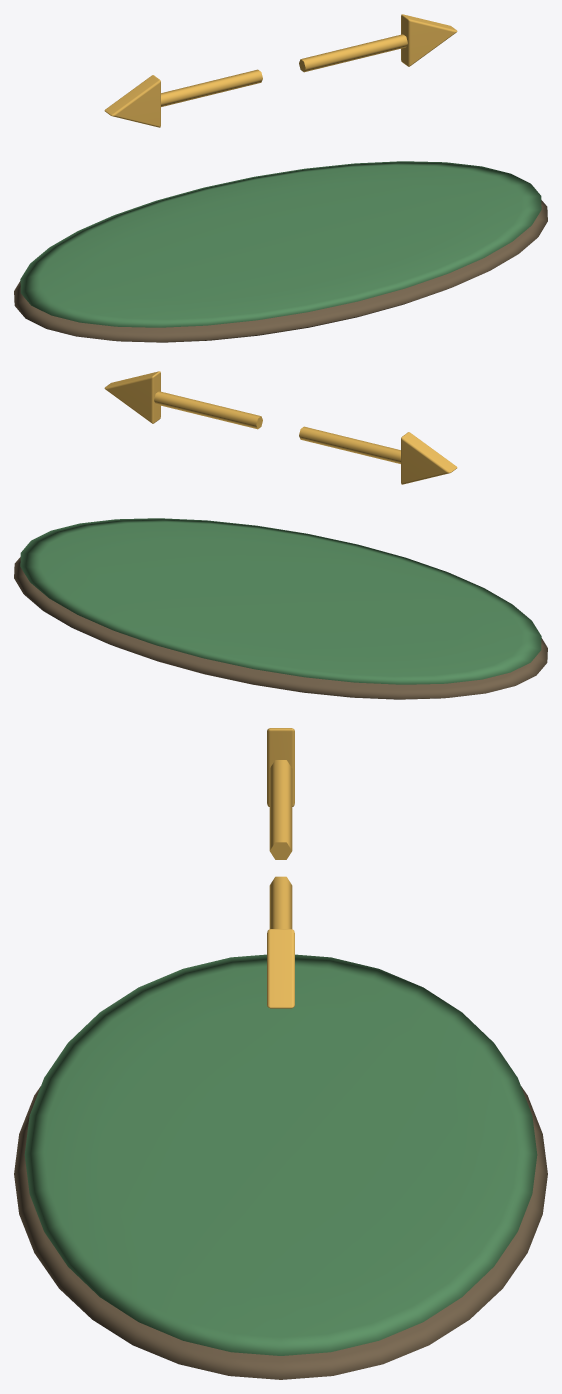
File: left-right.glb
3 views of the same model, one above another, from view 1: azimuth 30°, elevation 25°; view 2: azimuth 150°, elevation 25°; view 3: azimuth 270°, elevation 25° (orthographic). The views are drawn at different scales.
Visible parts, largest first — view 1: left-right_surface_01, left-right_surface_00, left-right_surface_02; view 2: left-right_surface_01, left-right_surface_00, left-right_surface_02; view 3: left-right_surface_01, left-right_surface_00, left-right_surface_02.
Boxes of the visible parts, x1,y1,x2,y2 form: left-right_surface_01: (20, 161, 541, 327); left-right_surface_00: (14, 200, 547, 342); left-right_surface_02: (104, 14, 457, 127); left-right_surface_01: (20, 518, 541, 684); left-right_surface_00: (14, 557, 547, 699); left-right_surface_02: (104, 371, 457, 484); left-right_surface_01: (24, 954, 537, 1355); left-right_surface_00: (14, 1086, 547, 1379); left-right_surface_02: (267, 728, 294, 1008).
Bounding box in the file's own units: 4.56 × 1.91 × 2.5.
